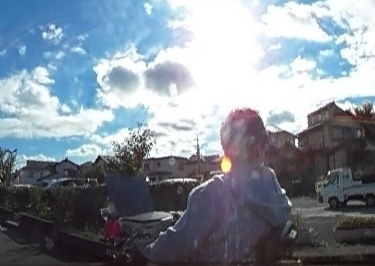person: (143, 104, 290, 262)
